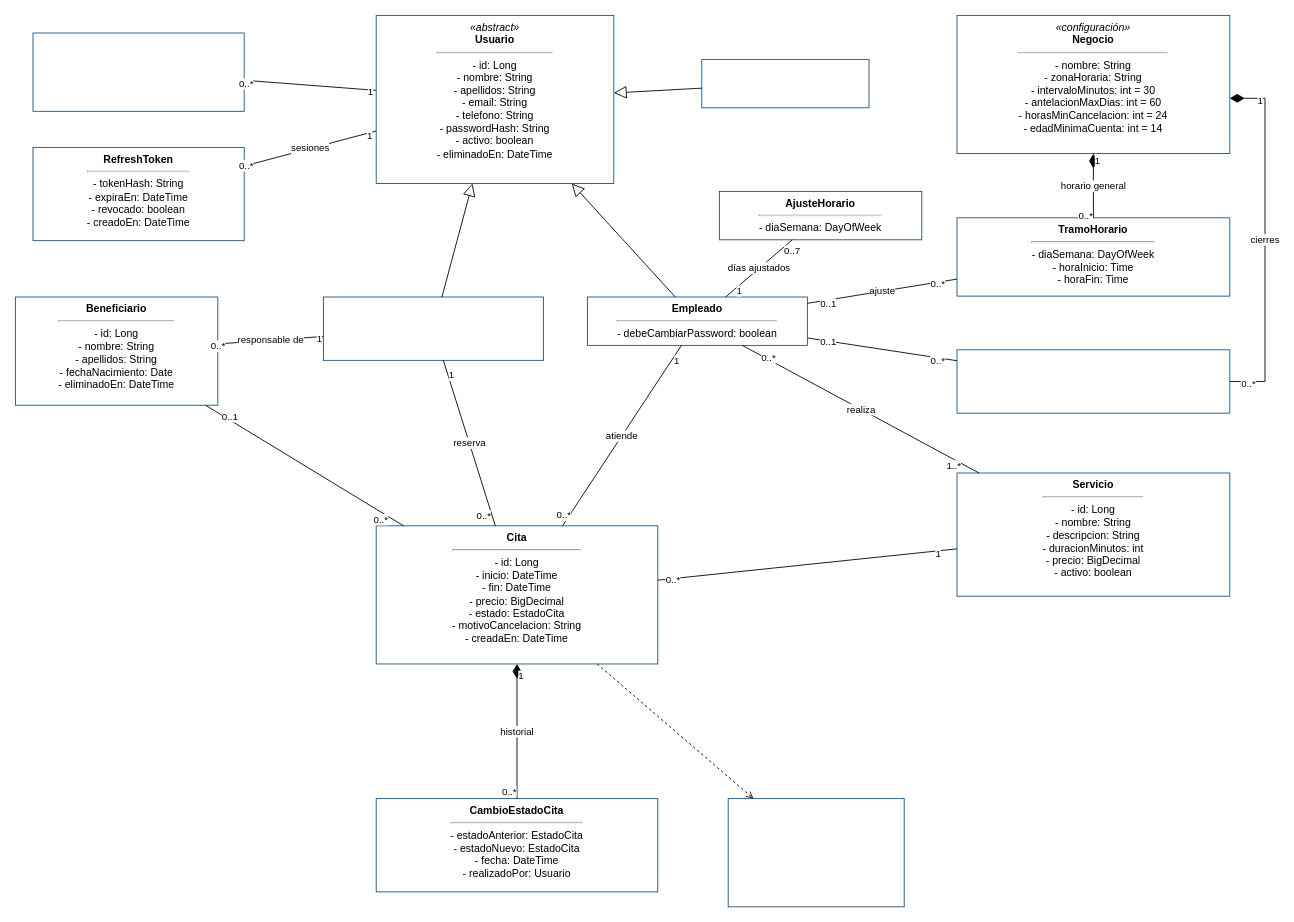
Image size: 1294x922. Some labels were removed from this diagram. The centre of each missing label's shape, as x and y in pixels:
Administrador: point (785, 83)
Cliente - fechaNacimiento: Date - privacidadAceptadaEn: DateTime: point (433, 328)
DiaCierre - fecha: Date - motivo: String: point (1093, 381)
TokenRecuperacion - tokenHash: String - expiraEn: DateTime - usado: boolean: point (138, 71)
«enumeration» EstadoCita CONFIRMADA COMPLETADA CANCELADA NO_PRESENTADO: point (815, 852)
